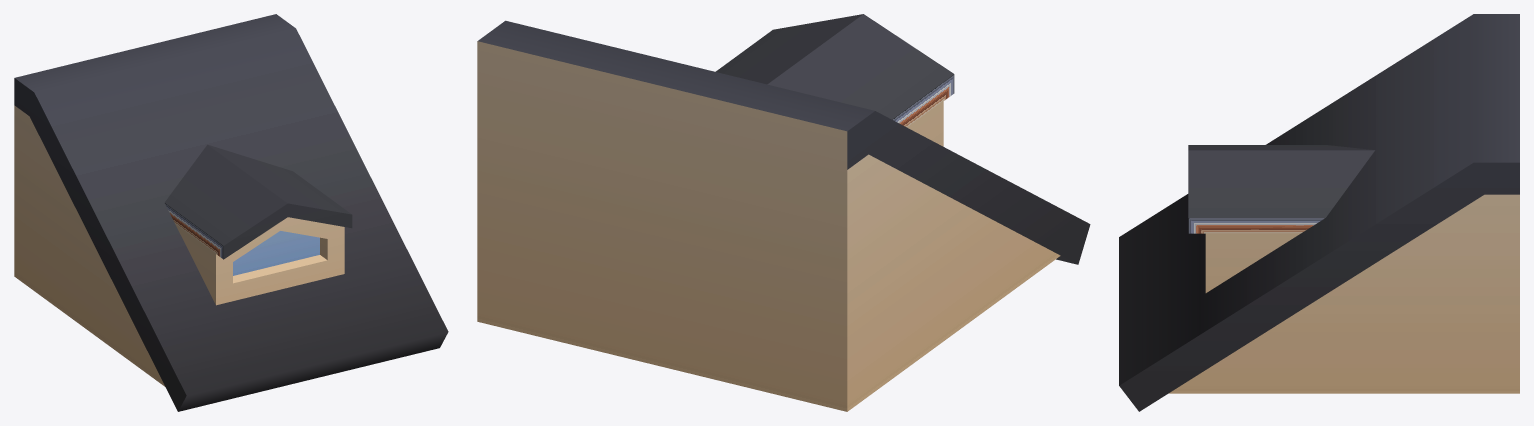
The model's file is roof-slanted-window.glb.
3 renders of one model, left to right at view 1: azimuth 30°, elevation 25°; view 2: azimuth 150°, elevation 25°; view 3: azimuth 270°, elevation 25°, orthographic. The views are drawn at different scales.
Visible parts, largest first — view 1: roof-slanted-window; view 2: roof-slanted-window; view 3: roof-slanted-window.
Boxes of the visible parts, x1=… form: roof-slanted-window: x1=14, y1=14, x2=448, y2=411; roof-slanted-window: x1=477, y1=14, x2=1090, y2=411; roof-slanted-window: x1=1119, y1=14, x2=1519, y2=411.
Bounding box in the file's own units: 1 × 0.782 × 1.14.
1 material, 1 textured.
